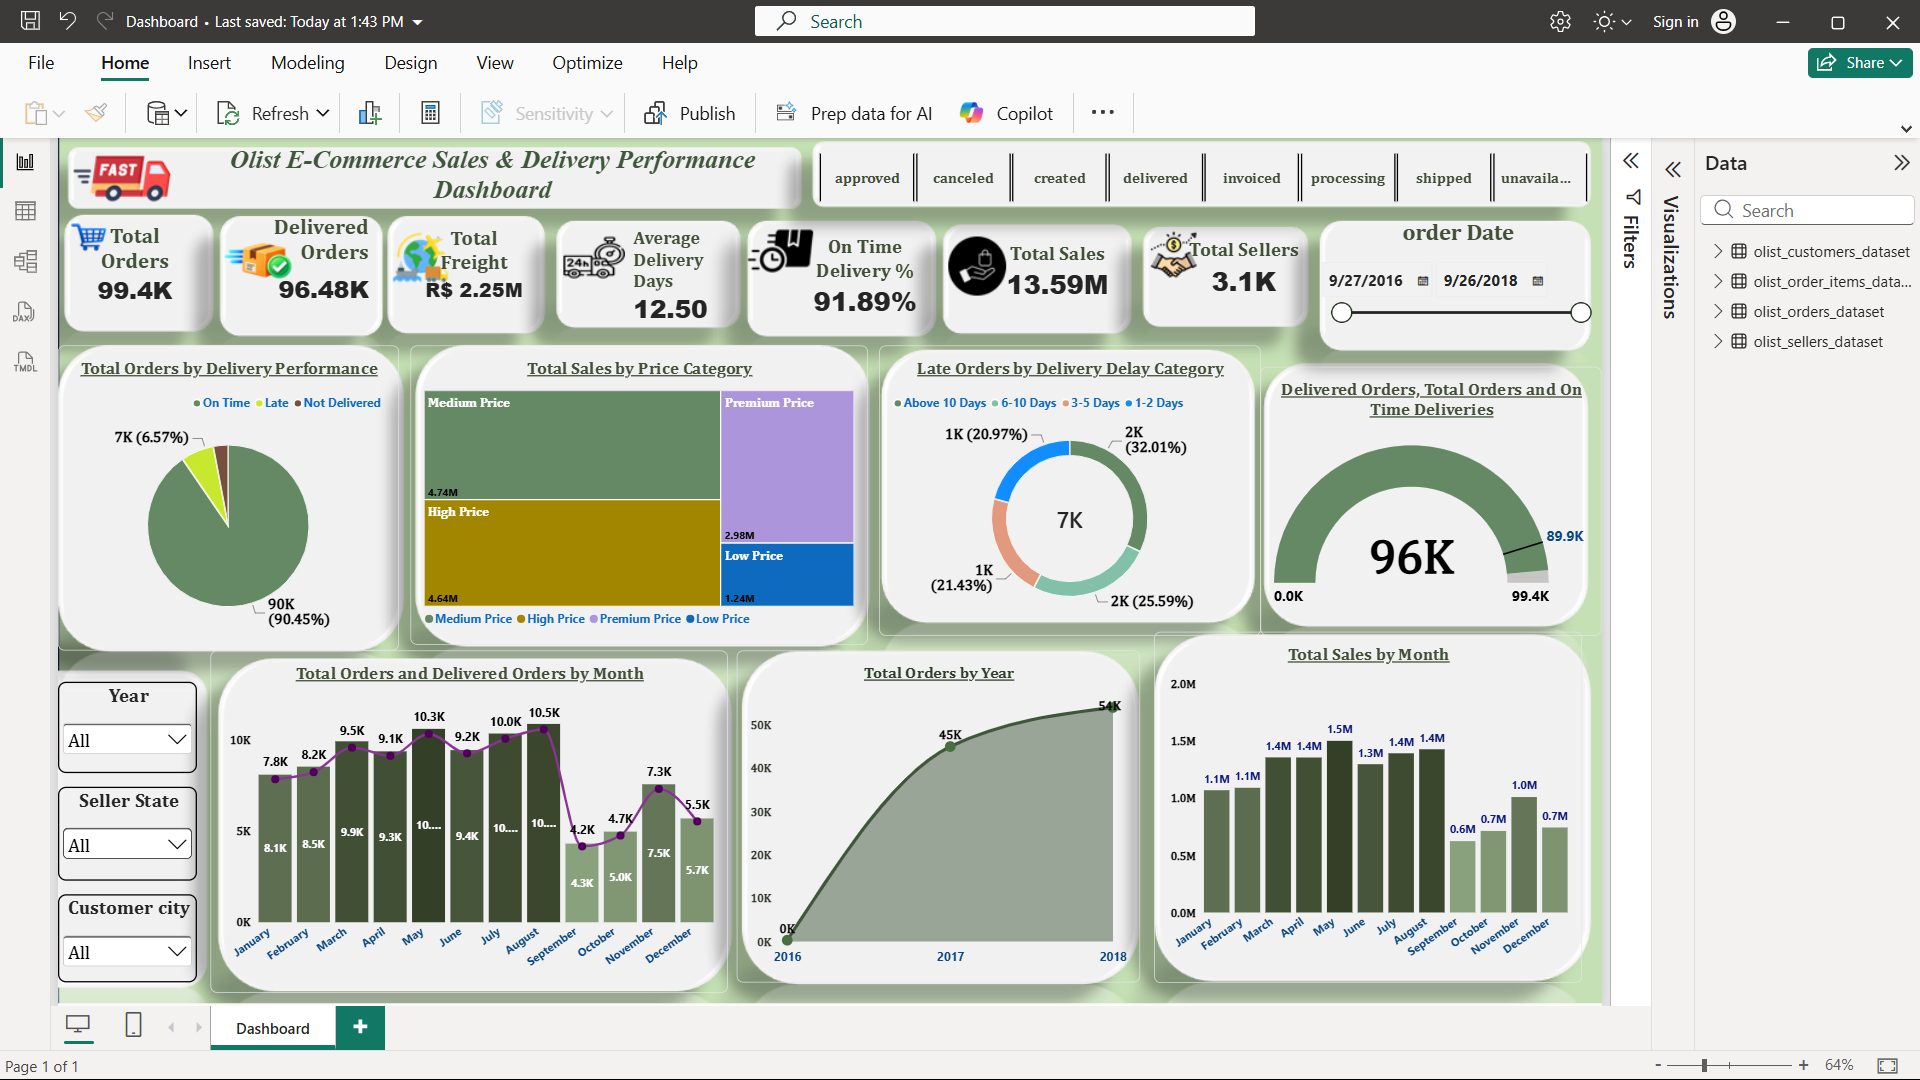

The page's visual inventory and layout, read from the dashboard file:
{"tool":"powerbi","page":{"name":"Dashboard","canvas":[1920,1080],"ordinal":0},"visuals":[{"type":"cardVisual","fields":{"Data":["olist_customers_dataset.Total Orders"]},"box":[18.6,61.3,154.3,195.2],"z":0},{"type":"cardVisual","fields":{"Data":["olist_customers_dataset.Delivered Orders"]},"box":[189.6,48.3,213.8,176.6],"z":1000},{"type":"cardVisual","fields":{"Data":["olist_customers_dataset.Total Freight"]},"box":[439.5,1.7,155.2,314],"z":2000},{"type":"cardVisual","fields":{"Data":["olist_customers_dataset.Average Delivery Days"]},"box":[699,100.4,145,143.1],"z":3000},{"type":"pieChart","fields":{"Category":["olist_orders_dataset.Delivery Performance"],"Y":["olist_customers_dataset.Total Orders"]},"box":[0,258.4,423.9,379.2],"z":5000},{"type":"areaChart","fields":{"Category":["olist_orders_dataset.order_approved_at.Variation.Date Hierarchy.Year"],"Y":["olist_customers_dataset.Total Orders"]},"box":[844,637.6,501.9,412.7],"z":6000},{"type":"columnChart","fields":{"Category":["olist_orders_dataset.order_purchase_timestamp.Variation.Date Hierarchy.Month"],"Y":["olist_customers_dataset.Total Sales"]},"box":[1362.7,613.5,531.7,436.9],"z":7000},{"type":"cardVisual","fields":{"Data":["olist_customers_dataset.Total Sales"]},"box":[1158.2,85.5,169.2,163.6],"z":8000},{"type":"lineClusteredColumnComboChart","fields":{"Category":["olist_orders_dataset.order_purchase_timestamp.Variation.Date Hierarchy.Month"],"Y":["olist_customers_dataset.Total Orders"],"Y2":["olist_customers_dataset.Delivered Orders"]},"box":[189.6,637.6,643.2,425.7],"z":9000},{"type":"cardVisual","fields":{"Data":["olist_customers_dataset.Total Sellers"]},"box":[1386.8,81.8,176.6,161.7],"z":10000},{"type":"donutChart","fields":{"Category":["olist_orders_dataset.Delivery Delay Category"],"Y":["olist_customers_dataset.Late Orders"]},"box":[1020.6,258.4,474.1,360.7],"z":11000},{"type":"treemap","fields":{"Group":["olist_order_items_dataset.Price Category"],"Values":["olist_customers_dataset.Total Sales"]},"box":[438.7,258.4,568.9,371.8],"z":12000},{"type":"gauge","fields":{"MaxValue":["olist_customers_dataset.Total Orders"],"TargetValue":["olist_customers_dataset.On Time Deliveries"],"Y":["olist_customers_dataset.Delivered Orders"]},"box":[1494.7,284.4,423.9,334.6],"z":13000},{"type":"slicer","title":"Order Status","fields":{"Values":["olist_orders_dataset.order_status"]},"box":[925.8,16.7,994.6,63.2],"z":14000},{"type":"slicer","title":"order Date","fields":{"Values":["olist_orders_dataset.order_purchase_timestamp"]},"box":[1563.4,100.4,355.1,184],"z":15000},{"type":"slicer","title":"Year","fields":{"Values":["olist_orders_dataset.order_purchase_timestamp.Variation.Date Hierarchy.Year"]},"box":[0,676.7,172.9,113.4],"z":16000},{"type":"slicer","title":"Customer city","fields":{"Values":["olist_customers_dataset.customer_city"]},"box":[0,940.7,172.9,109.7],"z":17000},{"type":"slicer","title":"Seller State","fields":{"Values":["olist_sellers_dataset.seller_state"]},"box":[0,806.8,172.9,117.1],"z":18000},{"type":"textbox","box":[159.9,7.4,760.3,78.1],"z":19000},{"type":"cardVisual","fields":{"Data":["olist_customers_dataset.on-Time-Delivery %"]},"box":[900,69.8,207.6,207.6],"z":19001}]}

Visuals, with their boxes on the page's 1920x1080 design canvas (x1, y1, x2, y2). These are canvas units, not pixel positions in the 1920x1080 screenshot, which may show the page scaled, cropped or inside an application window:
cardVisual - olist_customers_dataset.Total Orders: <bbox>19, 61, 173, 256</bbox>
cardVisual - olist_customers_dataset.Delivered Orders: <bbox>190, 48, 403, 225</bbox>
cardVisual - olist_customers_dataset.Total Freight: <bbox>440, 2, 595, 316</bbox>
cardVisual - olist_customers_dataset.Average Delivery Days: <bbox>699, 100, 844, 244</bbox>
pieChart - olist_orders_dataset.Delivery Performance x olist_customers_dataset.Total Orders: <bbox>0, 258, 424, 638</bbox>
areaChart - olist_orders_dataset.order_approved_at.Variation.Date Hierarchy.Year x olist_customers_dataset.Total Orders: <bbox>844, 638, 1346, 1050</bbox>
columnChart - olist_orders_dataset.order_purchase_timestamp.Variation.Date Hierarchy.Month x olist_customers_dataset.Total Sales: <bbox>1363, 614, 1894, 1050</bbox>
cardVisual - olist_customers_dataset.Total Sales: <bbox>1158, 86, 1327, 249</bbox>
lineClusteredColumnComboChart - olist_orders_dataset.order_purchase_timestamp.Variation.Date Hierarchy.Month x olist_customers_dataset.Total Orders: <bbox>190, 638, 833, 1063</bbox>
cardVisual - olist_customers_dataset.Total Sellers: <bbox>1387, 82, 1563, 244</bbox>
donutChart - olist_orders_dataset.Delivery Delay Category x olist_customers_dataset.Late Orders: <bbox>1021, 258, 1495, 619</bbox>
treemap - olist_order_items_dataset.Price Category x olist_customers_dataset.Total Sales: <bbox>439, 258, 1008, 630</bbox>
gauge - olist_customers_dataset.Total Orders x olist_customers_dataset.On Time Deliveries: <bbox>1495, 284, 1919, 619</bbox>
"Order Status" slicer: <bbox>926, 17, 1920, 80</bbox>
"order Date" slicer: <bbox>1563, 100, 1918, 284</bbox>
"Year" slicer: <bbox>0, 677, 173, 790</bbox>
"Customer city" slicer: <bbox>0, 941, 173, 1050</bbox>
"Seller State" slicer: <bbox>0, 807, 173, 924</bbox>
textbox: <bbox>160, 7, 920, 86</bbox>
cardVisual - olist_customers_dataset.on-Time-Delivery %: <bbox>900, 70, 1108, 277</bbox>
